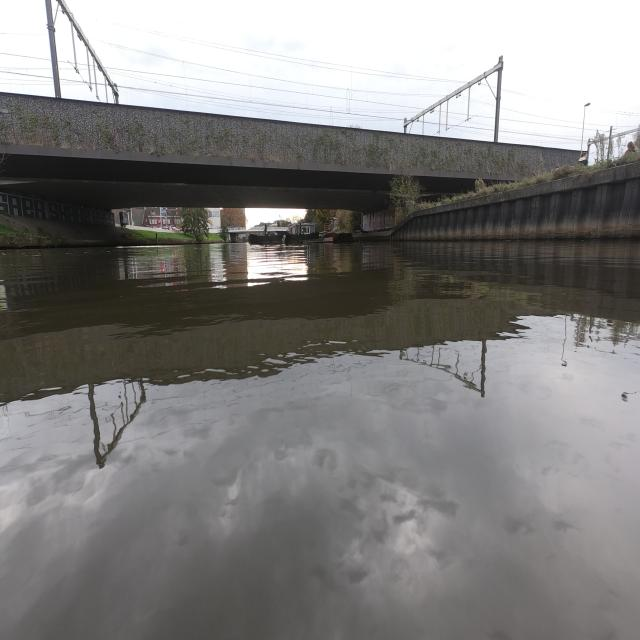sky: (69, 0, 640, 150)
wall: (354, 164, 640, 241), (0, 214, 147, 249)
water: (0, 241, 640, 640)
